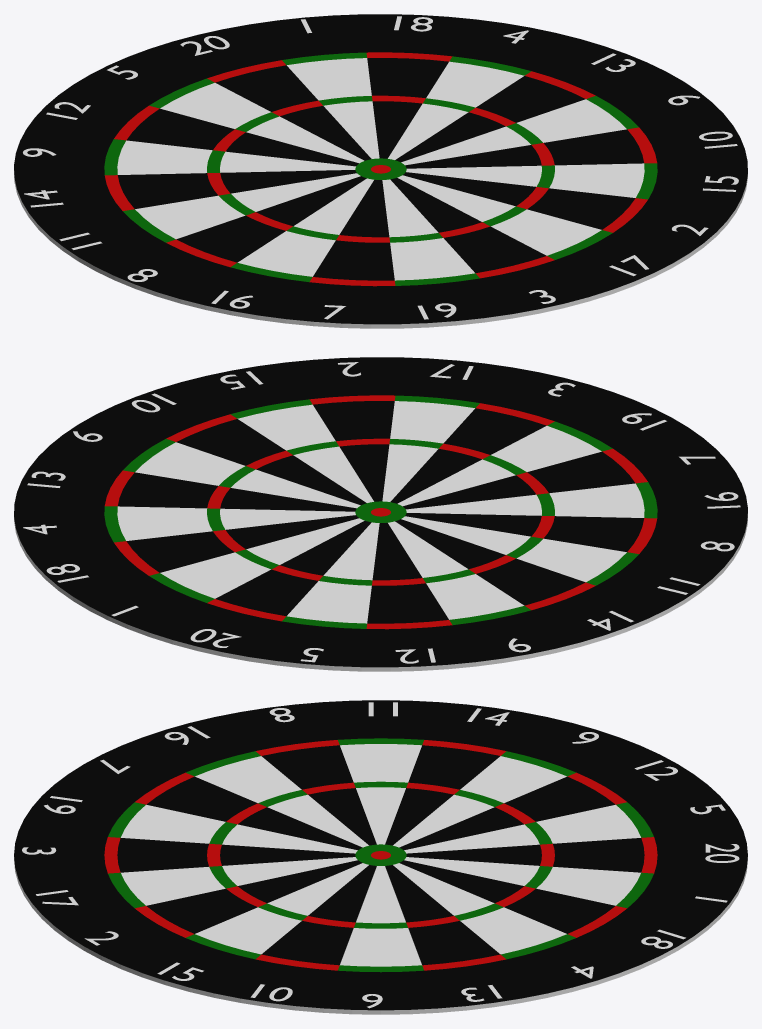
The model's file is dartboard.glb.
3 renders of one model, top to bottom at view 1: azimuth 30°, elevation 25°; view 2: azimuth 150°, elevation 25°; view 3: azimuth 270°, elevation 25°, orthographic.
Parts seen in each view (by area): view 1: Zylinder; view 2: Zylinder; view 3: Zylinder.
Boxes of the visible parts, x1,y1,x2,y2 form: Zylinder: (14,14,747,328); Zylinder: (14,357,747,671); Zylinder: (14,700,747,1014).
Bounding box in the file's own units: 0.451 × 0.00301 × 0.451.
